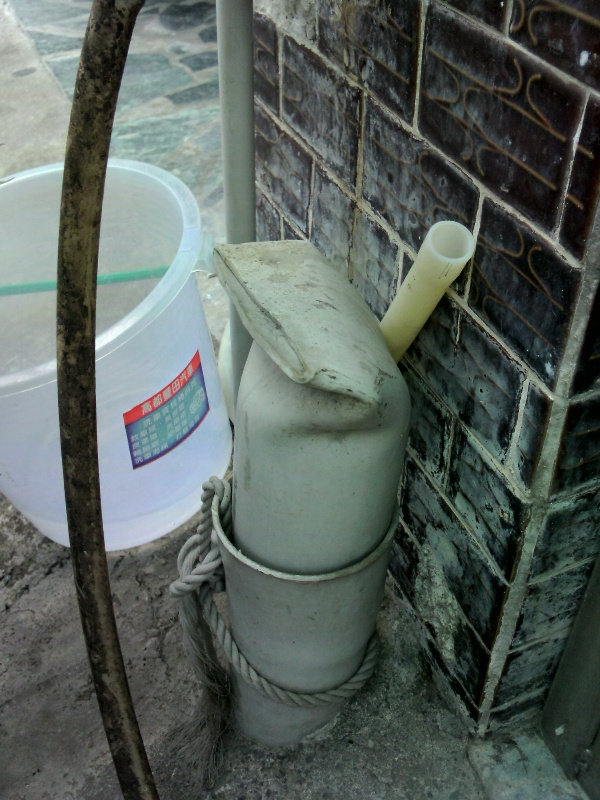bucket: (1, 148, 257, 555)
